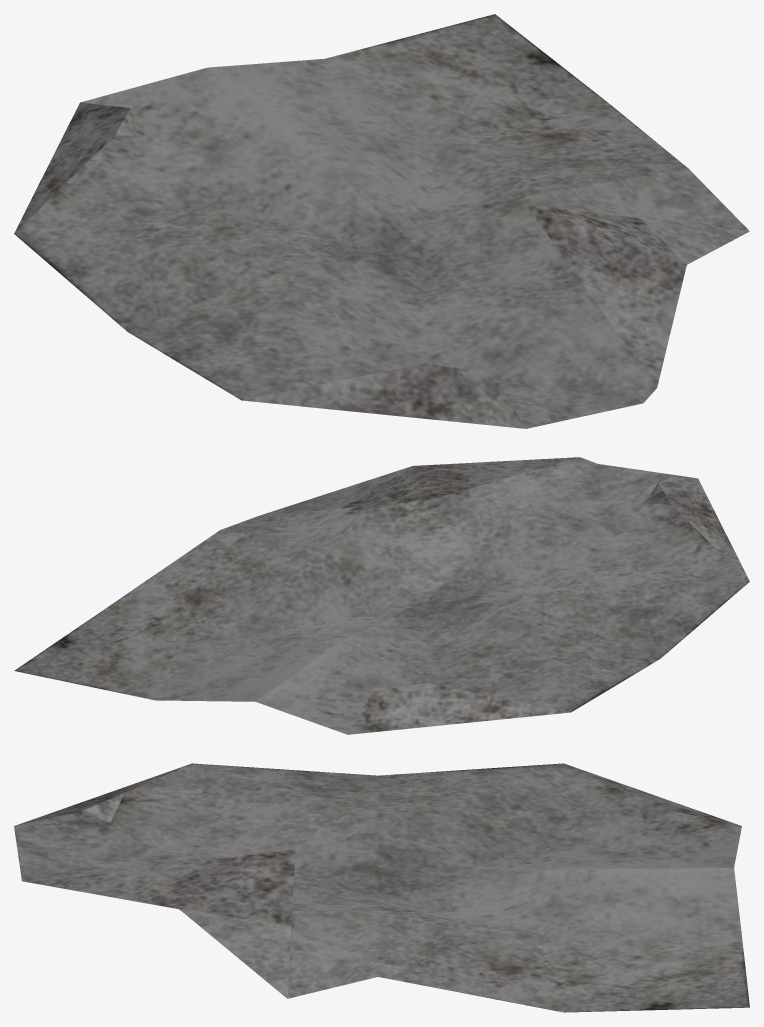
The model's file is prop_paper_ball.glb.
3 views of the same model, one above another, from view 1: azimuth 30°, elevation 25°; view 2: azimuth 150°, elevation 25°; view 3: azimuth 270°, elevation 25° (orthographic). The views are drawn at different scales.
Parts seen in each view (by area): view 1: Paper_04_GEO_Paper6x_0; view 2: Paper_04_GEO_Paper6x_0; view 3: Paper_04_GEO_Paper6x_0.
Part boxes in pixels (<box>): Paper_04_GEO_Paper6x_0: <box>14,14,749,428</box>; Paper_04_GEO_Paper6x_0: <box>14,457,749,734</box>; Paper_04_GEO_Paper6x_0: <box>14,763,749,1012</box>.
Bounding box in the file's own units: 0.525 × 0.067 × 0.6888.
1 material, 1 textured.
